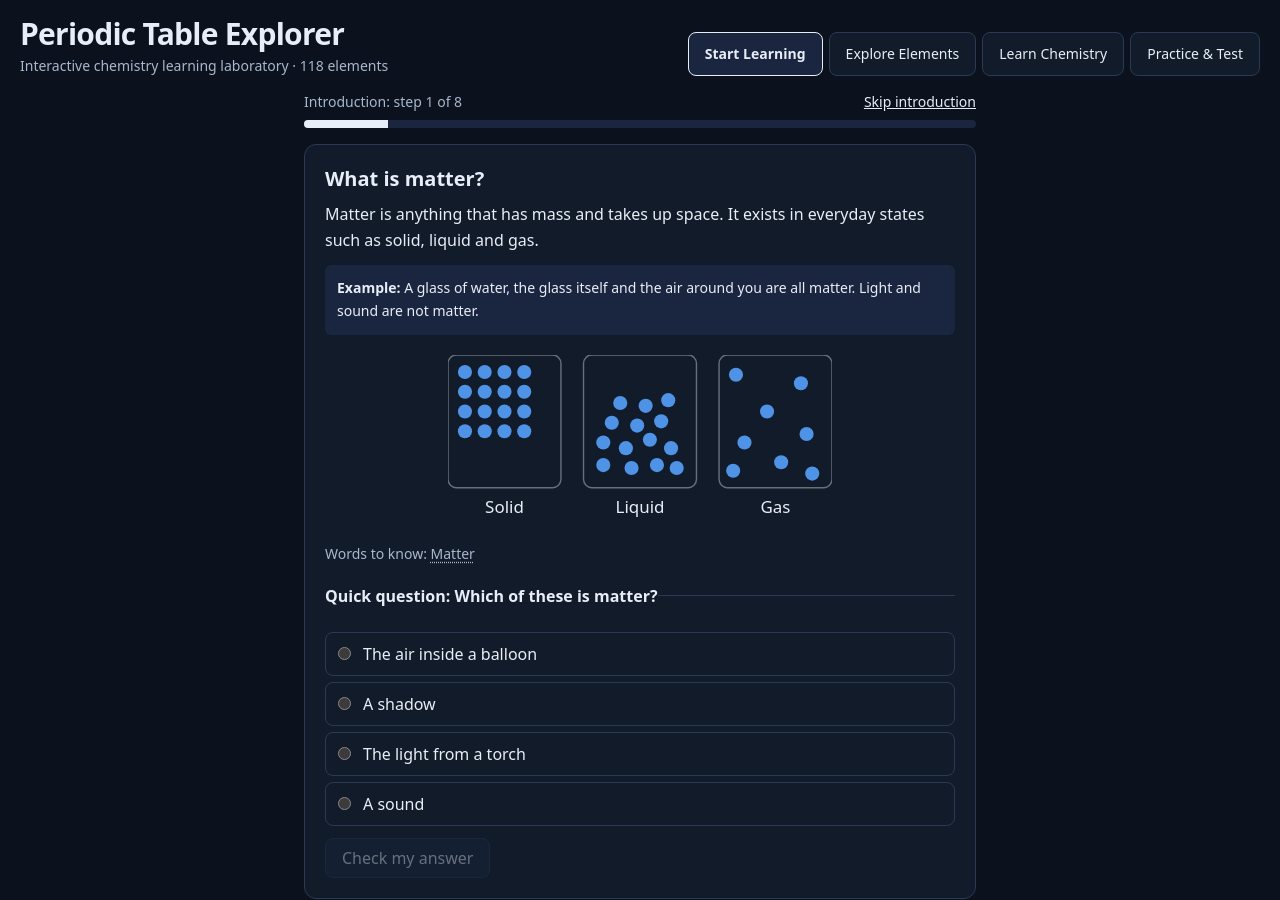
Scenario: first-time introduction › can be skipped, and repeated afterwards
Click the button "Skip introduction": (920, 102) [864,92,976,112]
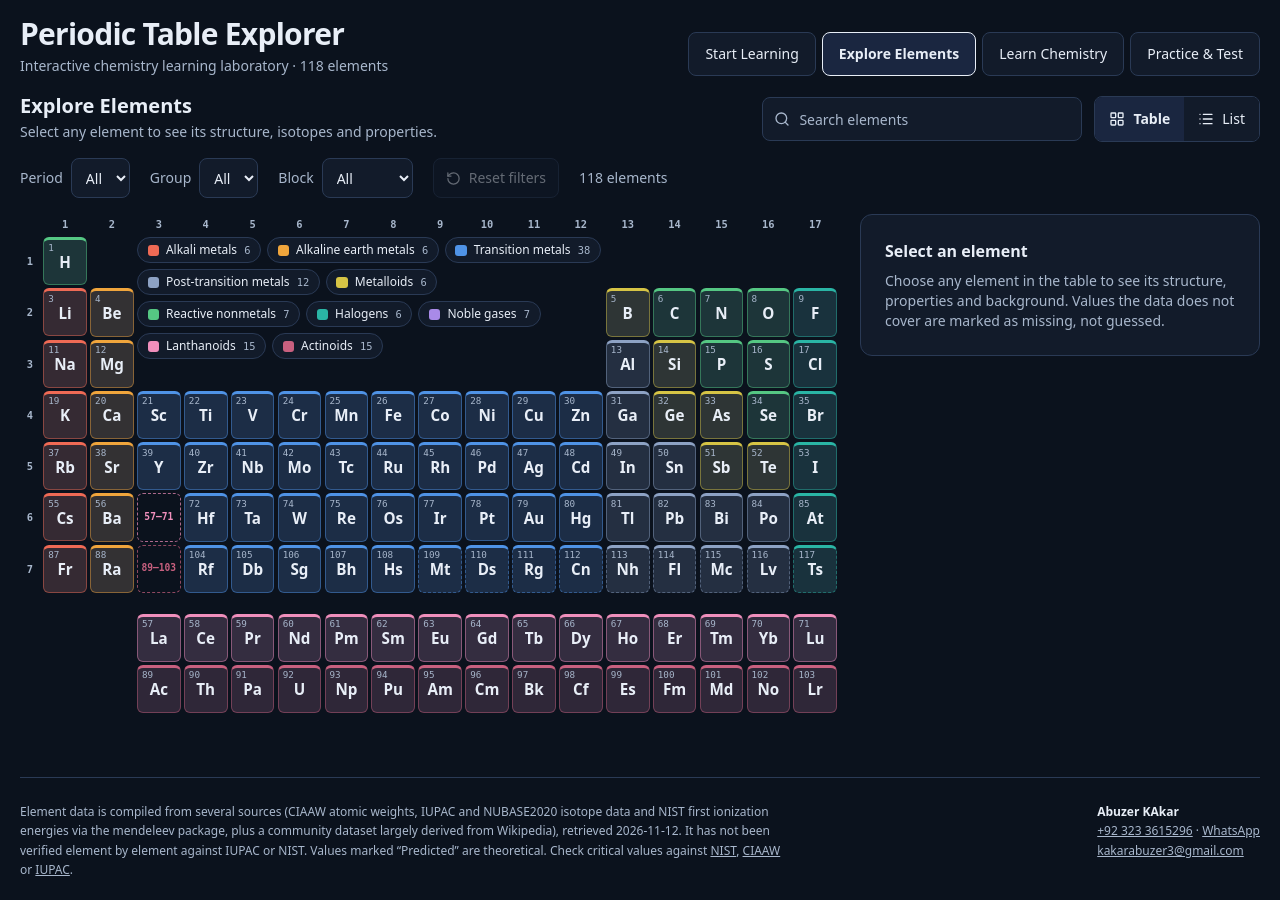
Now the heading "Explore Elements" is shown, box [20,92,192,119]
Click the button "Start Learning": (752, 54) [688,32,816,76]
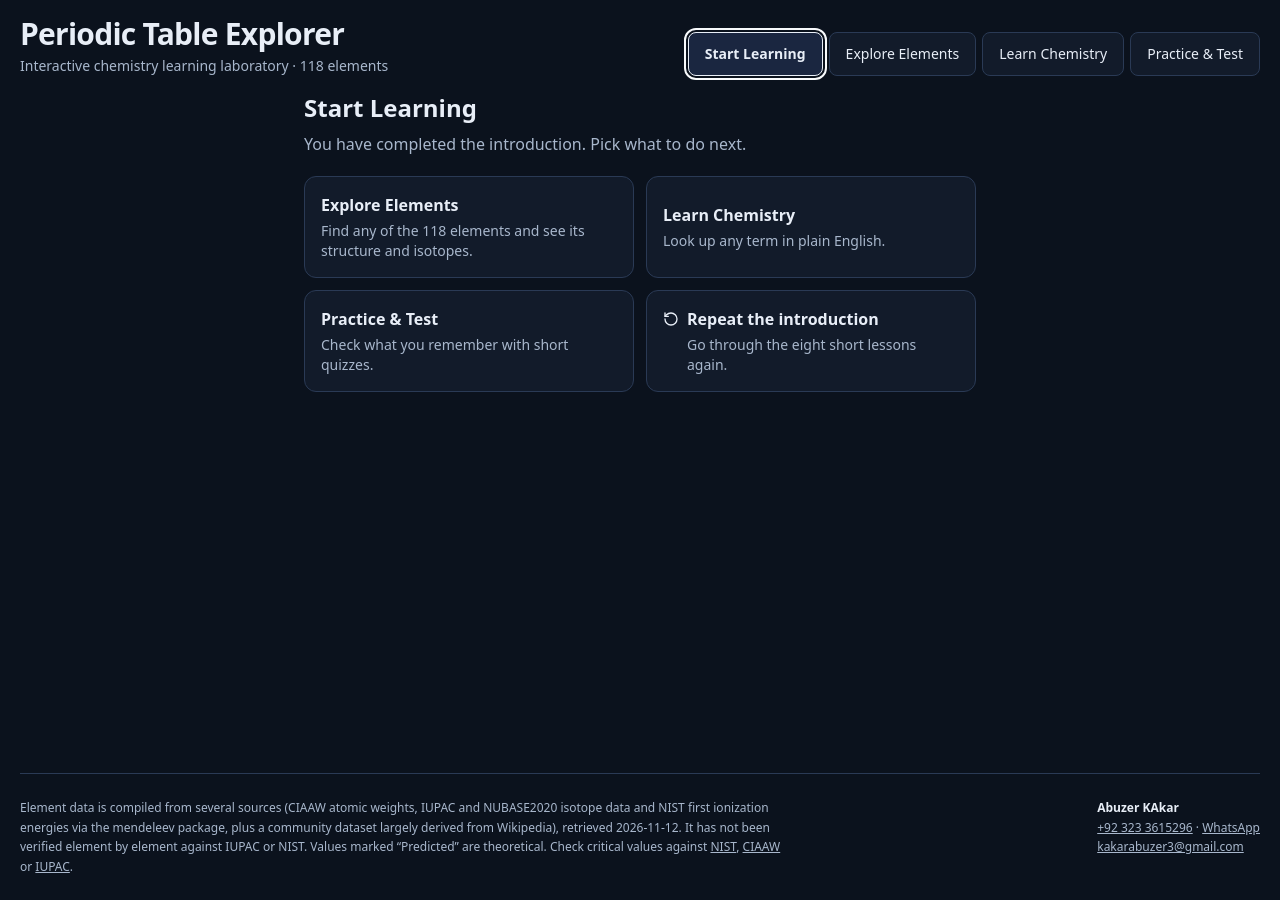
Click the button "Repeat the introduction": (811, 341) [646,290,976,392]
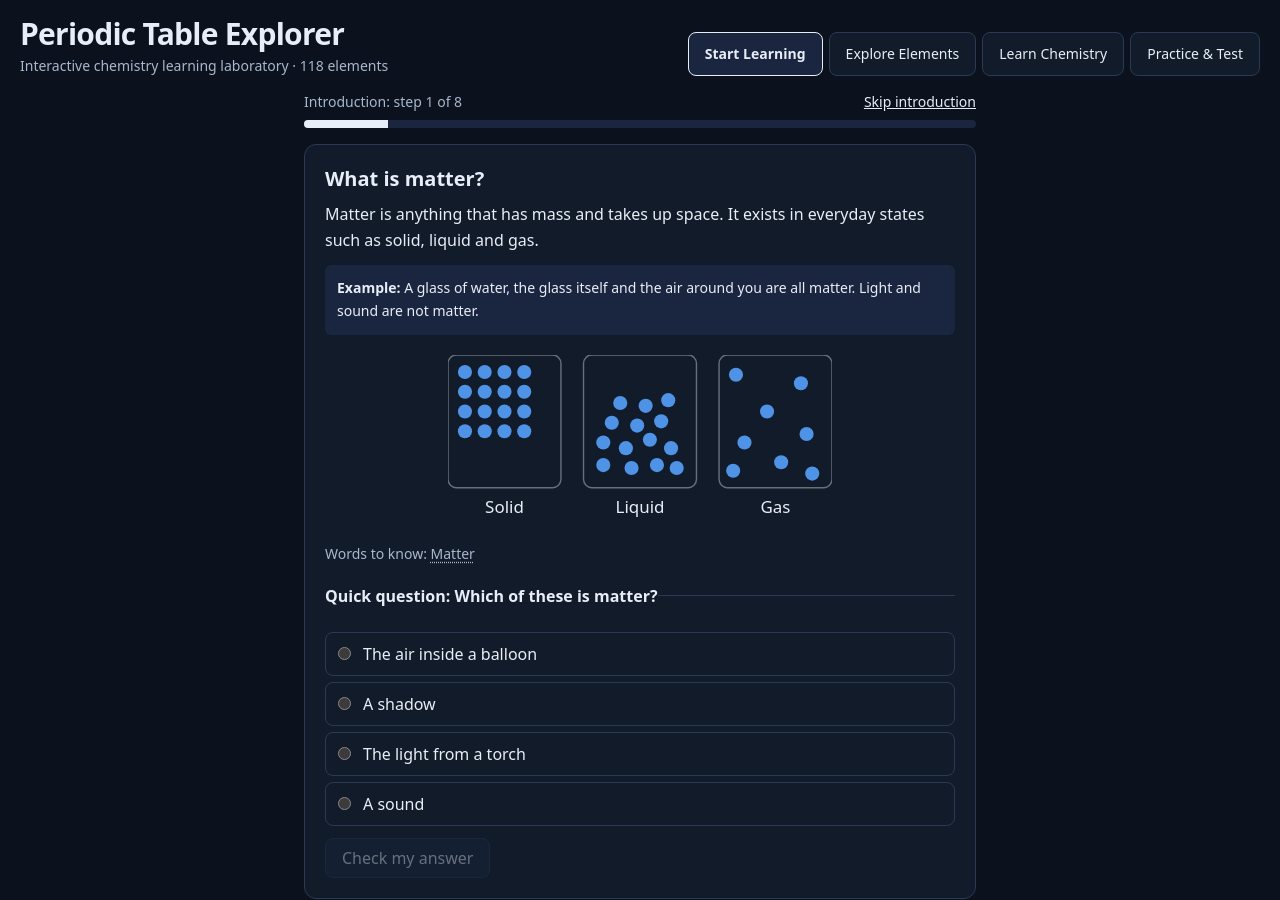
Now the text "Introduction: step 1 of 8" is shown, box [304,92,462,112]
